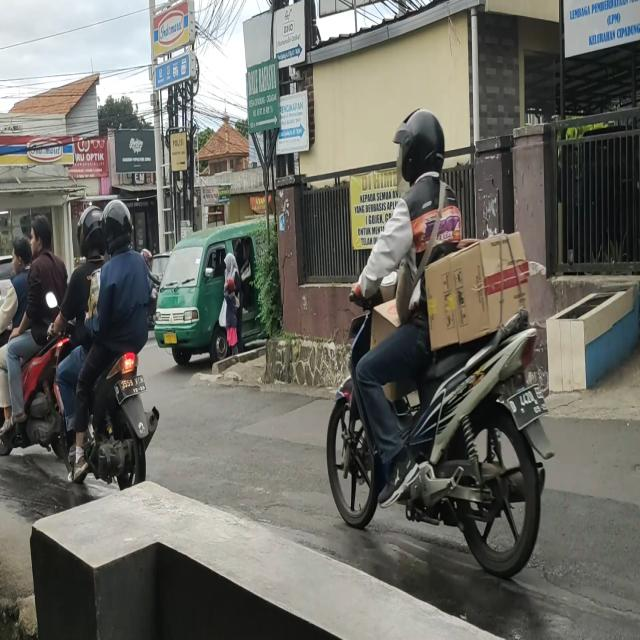helmet: (398, 113, 443, 182), (104, 200, 133, 255), (77, 206, 107, 254)
no-helmet: (31, 215, 54, 258), (10, 233, 34, 274)
